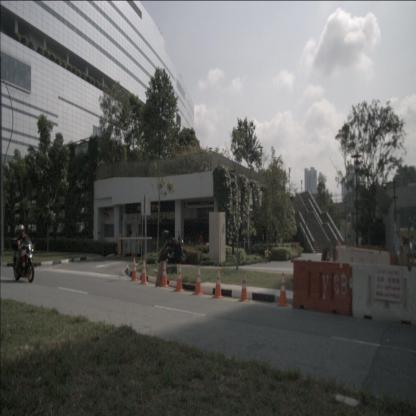barrier: (349, 261, 415, 326), (290, 259, 352, 317), (335, 245, 391, 300)
cone: (276, 272, 288, 307), (212, 268, 225, 299), (238, 270, 250, 302), (192, 265, 204, 295), (174, 263, 185, 293), (159, 260, 169, 288), (139, 258, 149, 285), (130, 257, 139, 281), (325, 250, 331, 280), (328, 254, 334, 278)
